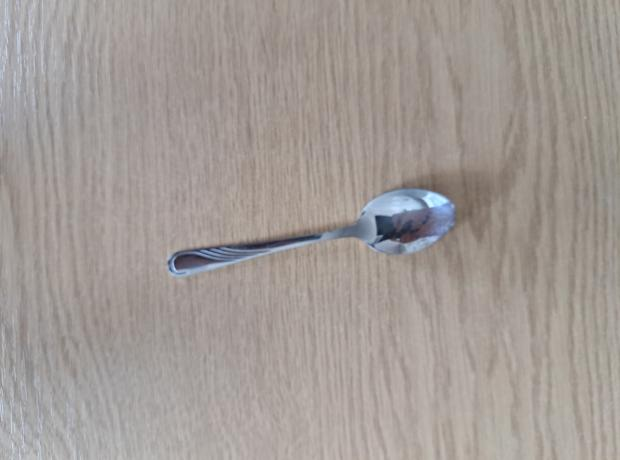metal: (163, 184, 454, 278)
